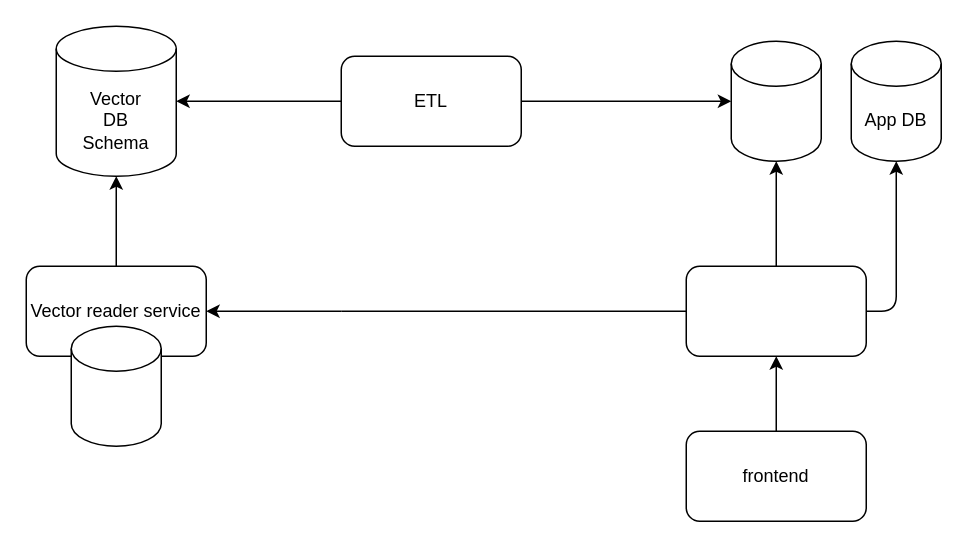
Some shapes in this 968 by 548 pixel diagram are drawn without their labels. The centre of each missing label's shape, as x and y in pixels:
"backend" belongs at point 775,310.
"Content DB" belongs at point 775,100.
"In memory event store" belongs at point 115,385.
